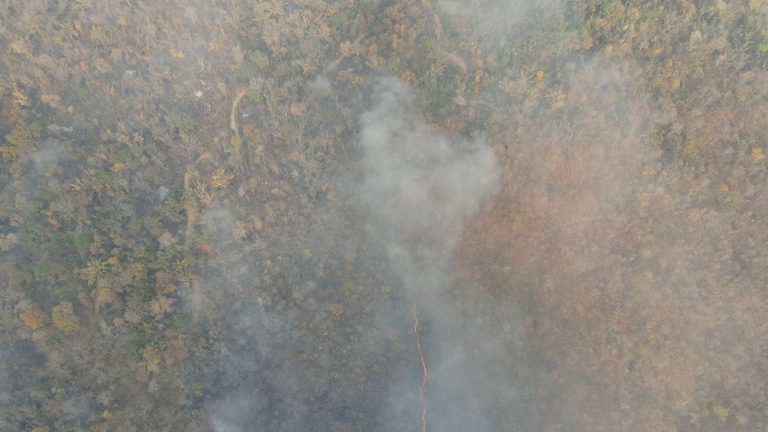fire: (408, 297, 434, 432)
smoke: (353, 104, 483, 279), (437, 317, 489, 432)
